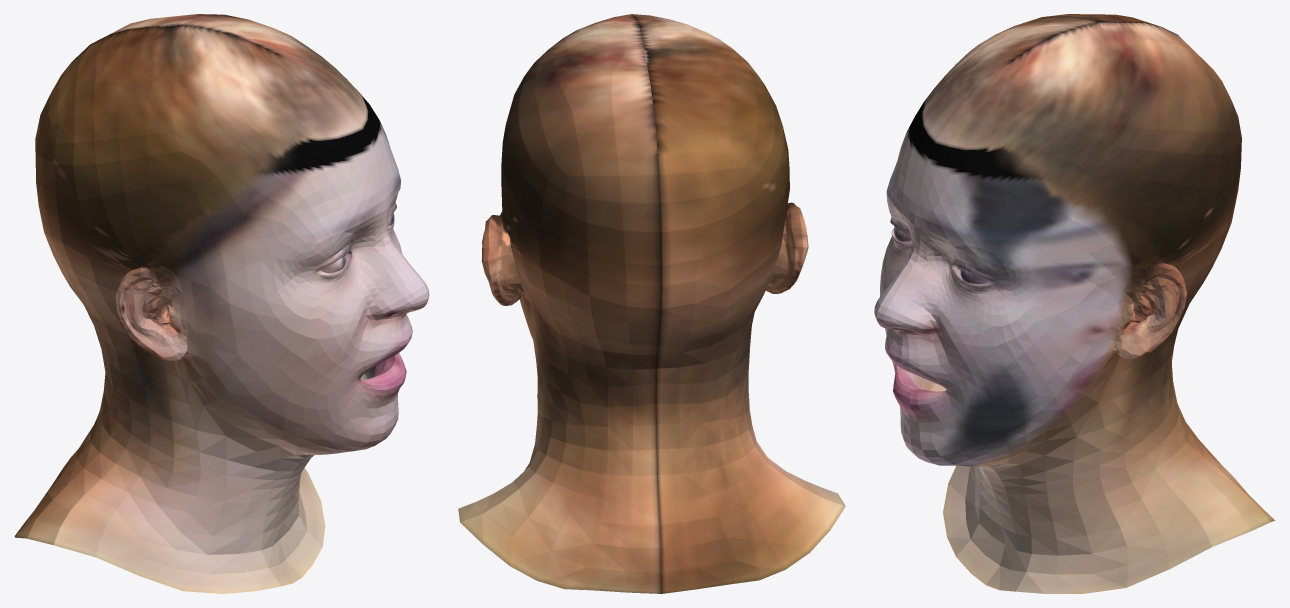
The model's file is cheo1_frame0010.obj.
3 views of the same model, side by side, from view 1: azimuth 30°, elevation 25°; view 2: azimuth 150°, elevation 25°; view 3: azimuth 270°, elevation 25° (orthographic).
Size of the model in its own units: 0.2144 by 0.3203 by 0.2193.
1 material, 1 textured.
